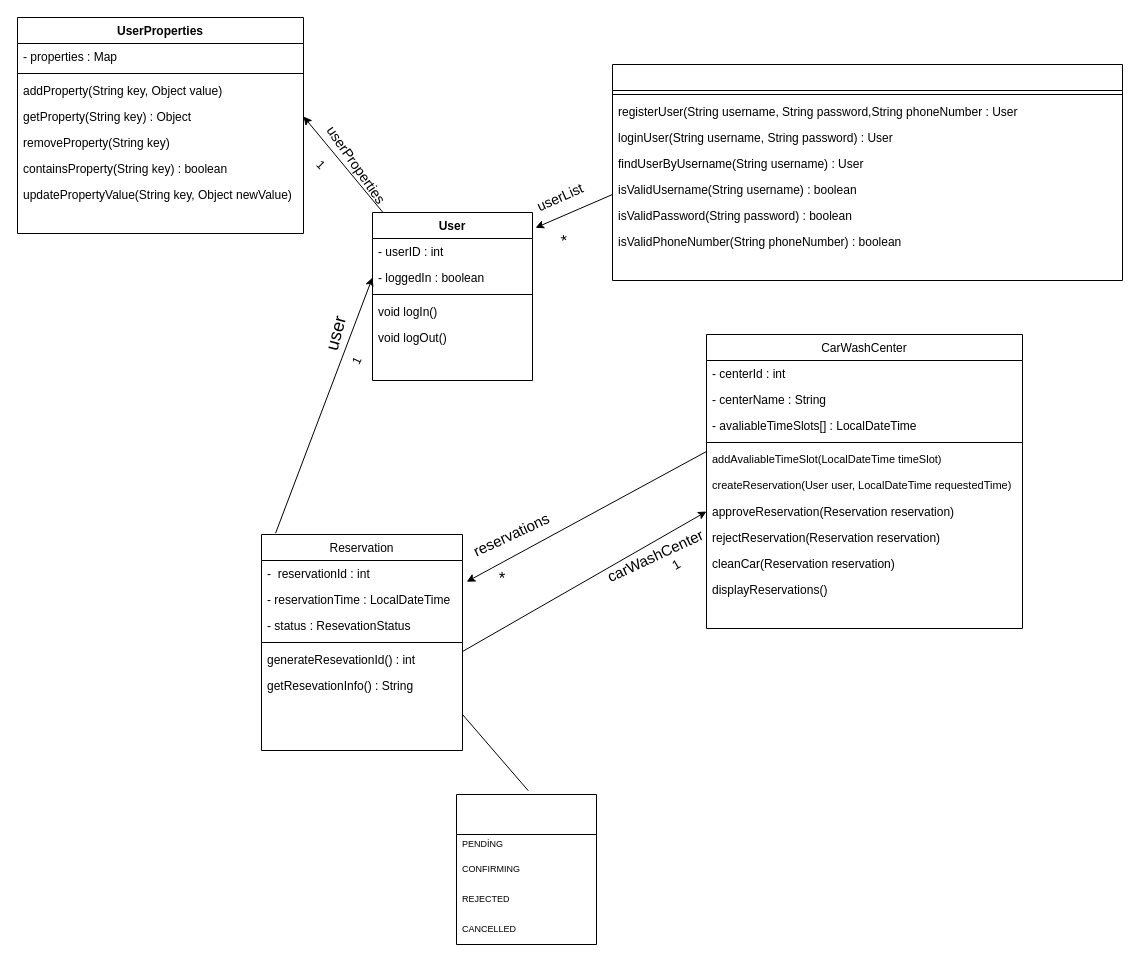
The diagram is 1140 pixels wide and 962 high, and some of its shapes have lost their labels. Each missing label, with the box of its shape:
<<enumaration>> ResevationStatus: (456, 794, 596, 944)
UserService: (612, 64, 1122, 280)
